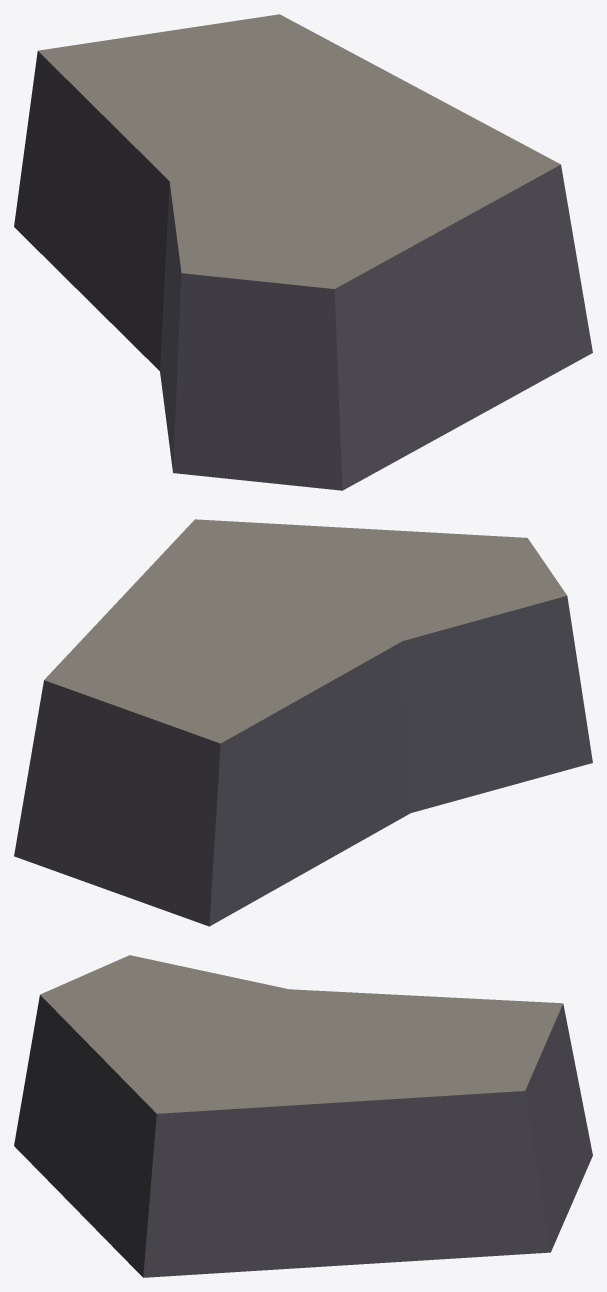
The model's file is TB_Env_RockC.FBX.
3 renders of one model, top to bottom at view 1: azimuth 30°, elevation 25°; view 2: azimuth 150°, elevation 25°; view 3: azimuth 270°, elevation 25°, orthographic. The views are drawn at different scales.
Parts seen in each view (by area): view 1: TB_Env_RockC; view 2: TB_Env_RockC; view 3: TB_Env_RockC.
Boxes of the visible parts, <box> form: TB_Env_RockC: <box>14,14,592,490</box>; TB_Env_RockC: <box>14,519,592,926</box>; TB_Env_RockC: <box>14,955,592,1277</box>.
Bounding box in the file's own units: 2.03 × 0.8333 × 2.83.
